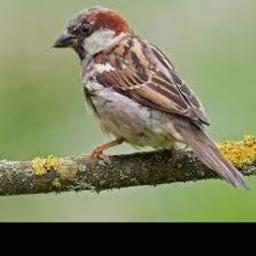Sparrow: (51, 6, 250, 189)
